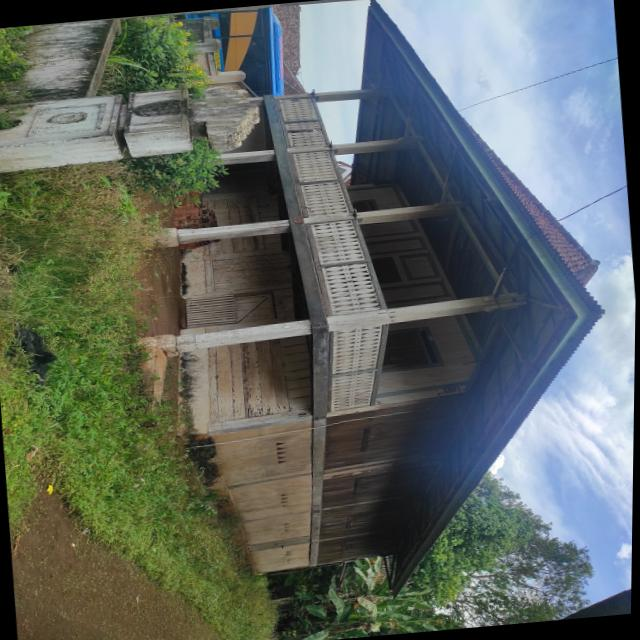Pintu: (185, 290, 276, 327)
Tembok Bangunan: (180, 182, 479, 572)
